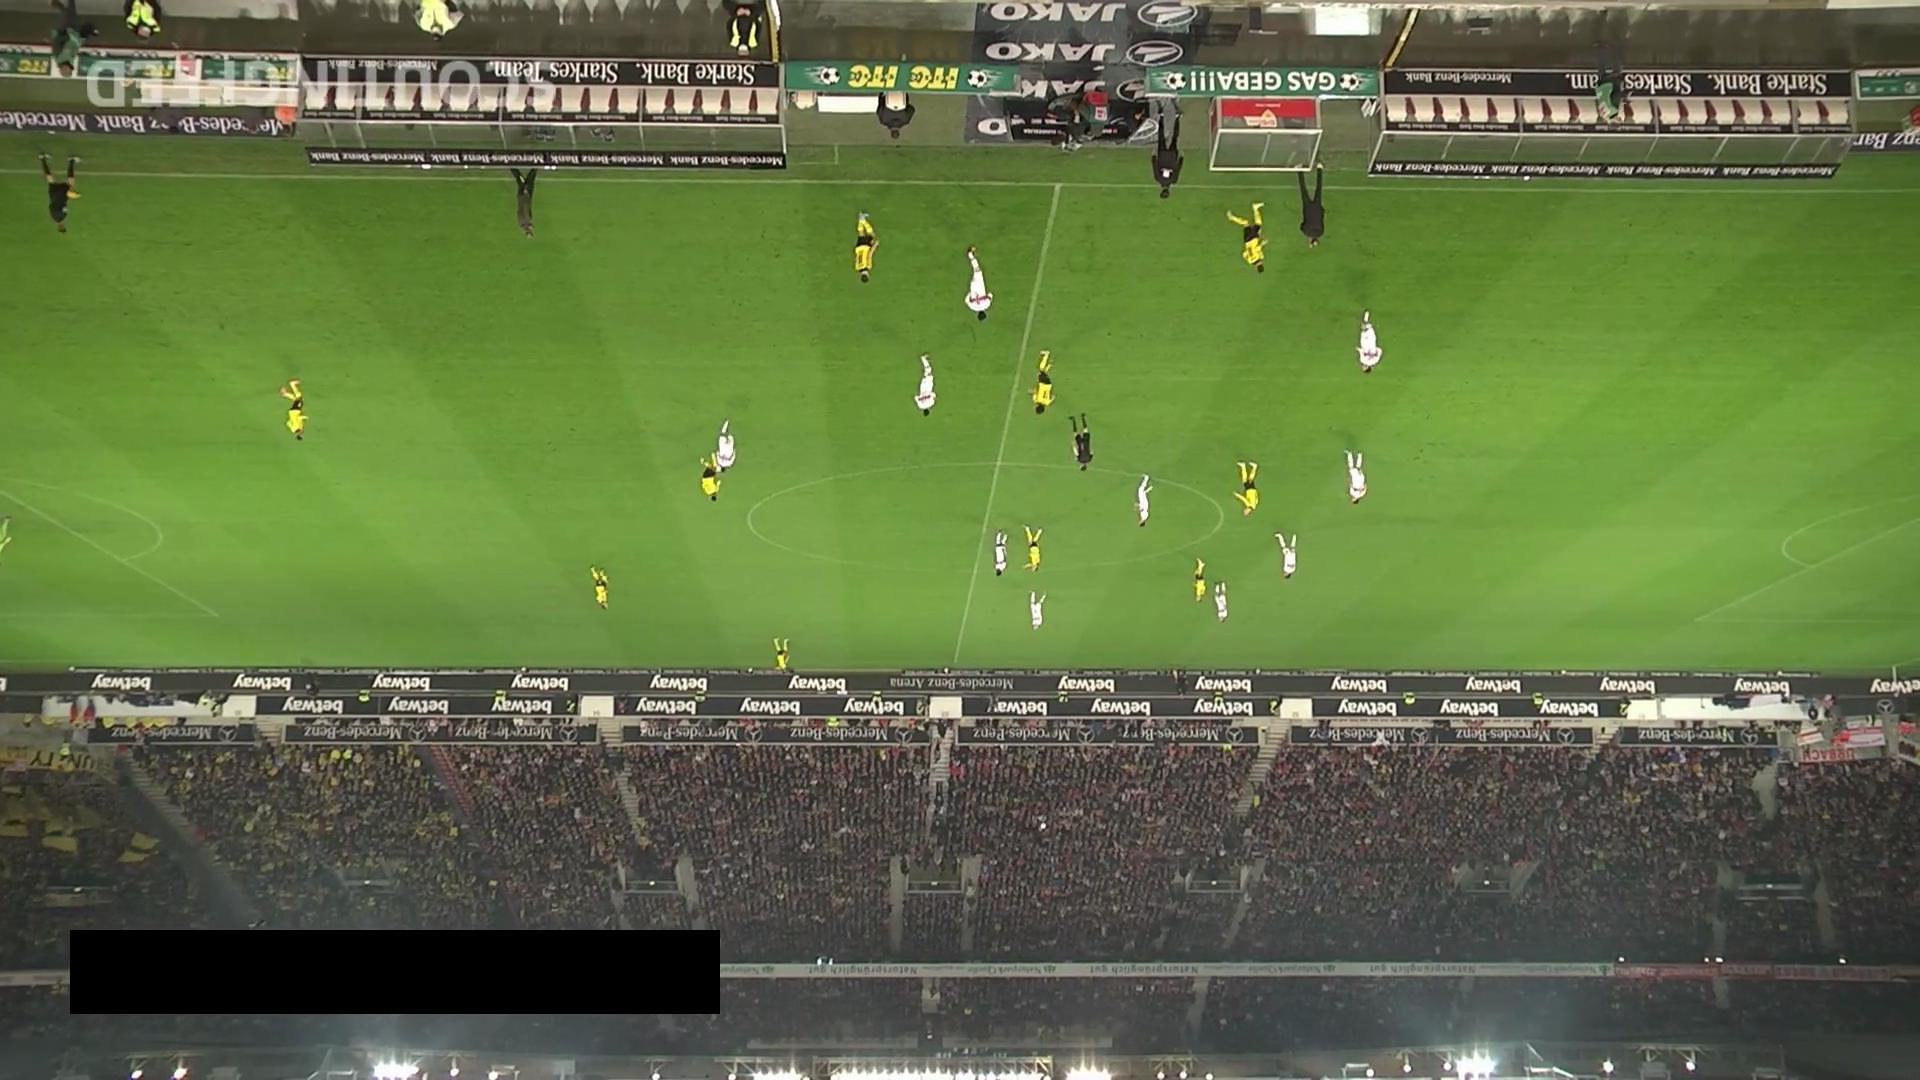ball: (713, 463, 724, 474)
goalkeeper: (0, 516, 13, 556)
player: (1227, 202, 1269, 274), (965, 246, 993, 323), (853, 211, 879, 284), (1355, 310, 1383, 376), (1028, 350, 1055, 416), (280, 379, 308, 442), (1232, 461, 1260, 517), (914, 354, 937, 418), (1343, 450, 1367, 505), (714, 420, 736, 475), (1273, 533, 1298, 581), (1021, 526, 1044, 573), (700, 454, 722, 503), (1132, 475, 1152, 528), (589, 567, 609, 611), (993, 530, 1008, 577), (1192, 558, 1207, 604), (1029, 591, 1046, 631), (773, 638, 791, 674), (1213, 582, 1228, 623)
referee: (37, 153, 82, 235), (1067, 413, 1094, 473), (1172, 665, 1189, 700)
